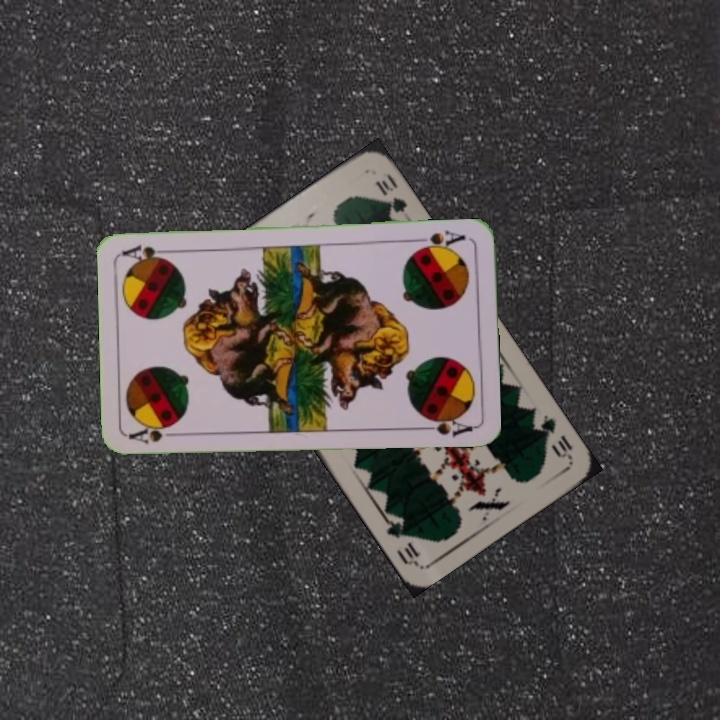G10: (528, 410, 575, 461)
SA: (126, 418, 185, 446), (411, 226, 468, 254)
